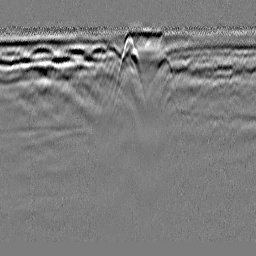cavity: (111, 34, 148, 110)
